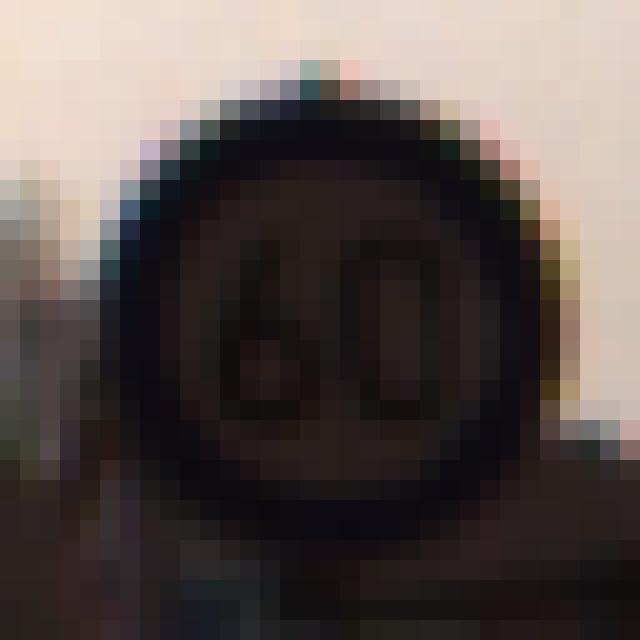SPEED-LIMIT-60: (90, 76, 593, 573)
